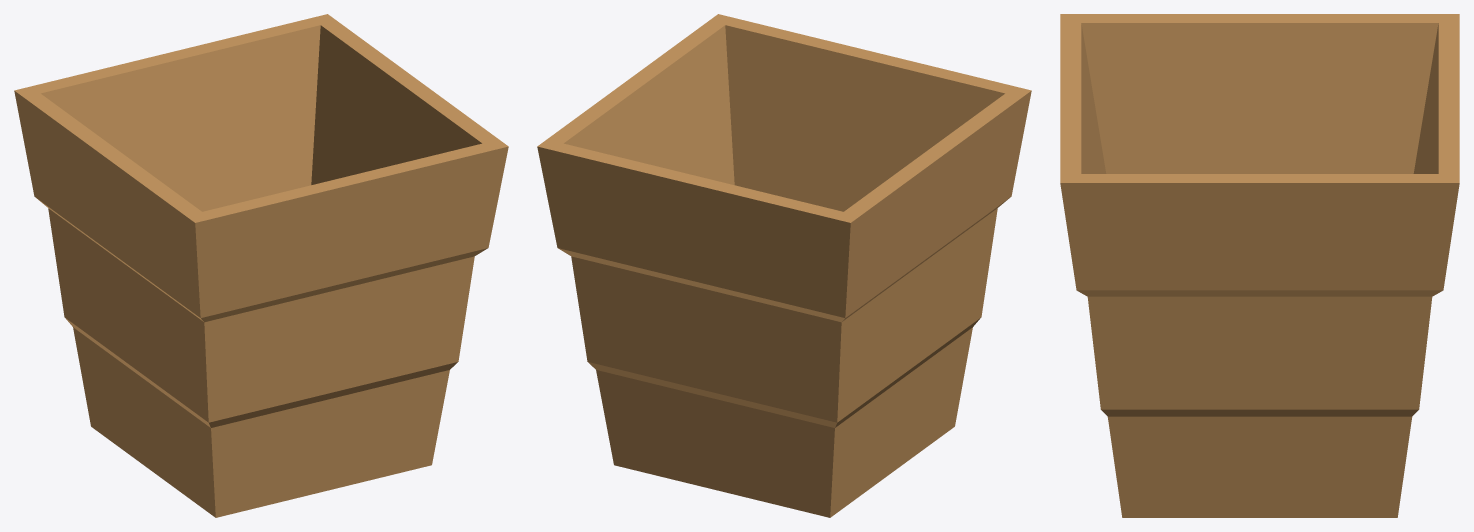
The model's file is furniture_pot-medium-rectangle-empty.fbx.
3 views of the same model, side by side, from view 1: azimuth 30°, elevation 25°; view 2: azimuth 150°, elevation 25°; view 3: azimuth 270°, elevation 25° (orthographic). The views are drawn at different scales.
Visible parts, largest first — view 1: furniture_pot_medium_rectangle_empty; view 2: furniture_pot_medium_rectangle_empty; view 3: furniture_pot_medium_rectangle_empty.
Boxes of the visible parts, x1=… form: furniture_pot_medium_rectangle_empty: x1=14, y1=14, x2=508, y2=517; furniture_pot_medium_rectangle_empty: x1=537, y1=14, x2=1031, y2=517; furniture_pot_medium_rectangle_empty: x1=1060, y1=14, x2=1459, y2=517.
Size of the model in its own units: 193 by 193 by 193.
